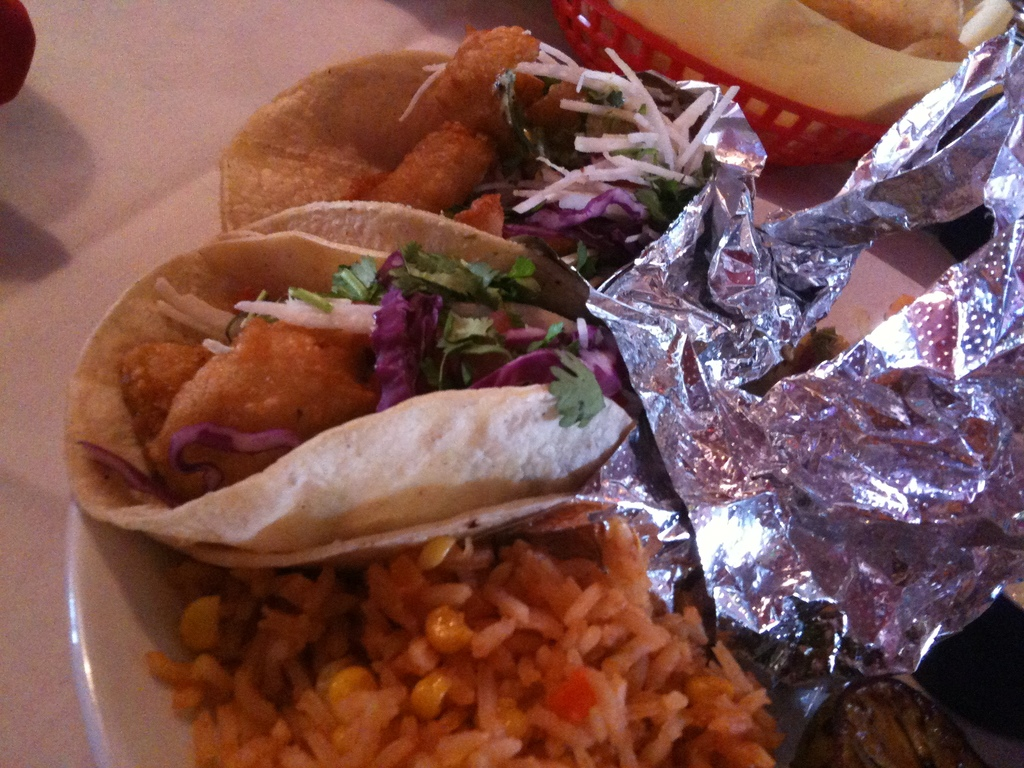taco: (61, 225, 643, 571), (209, 15, 659, 287)
